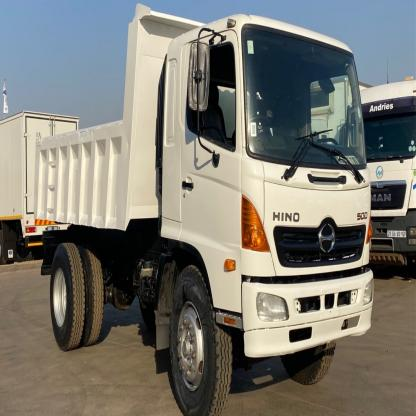dump_truck: (26, 0, 380, 415)
